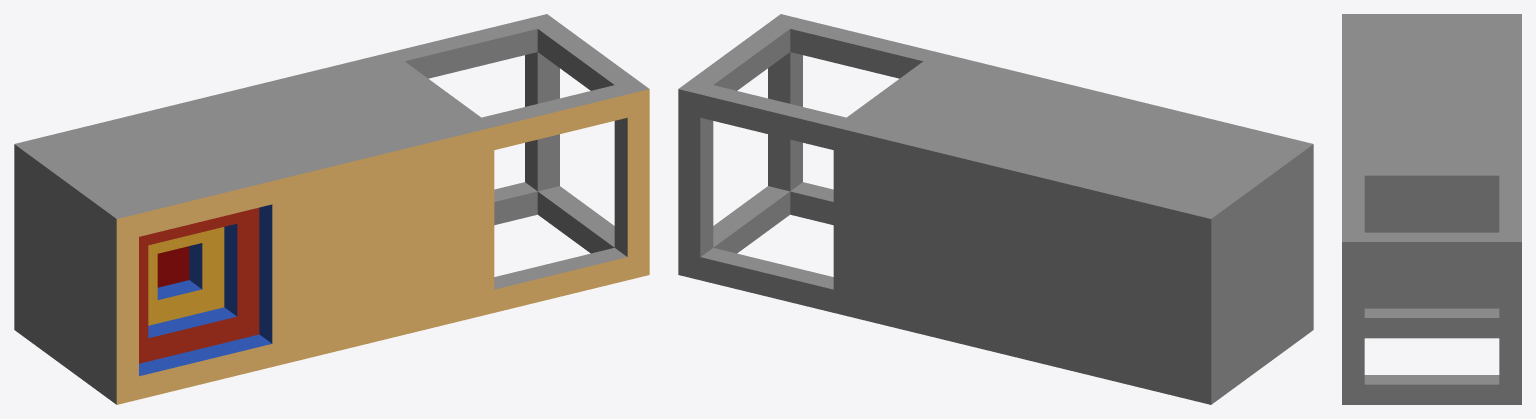
File: base_blocks.FBX
The picture shows the model from 3 angles, left to right: view 1: azimuth 30°, elevation 25°; view 2: azimuth 150°, elevation 25°; view 3: azimuth 270°, elevation 25°; orthographic projection. The views are drawn at different scales.
Parts seen in each view (by area): view 1: Box_S_0001, Box_0001, Box_H_0001; view 2: Box_S_0001, Box_0001, Box_H_0001; view 3: Box_H_0001, Box_0001, Box_S_0001.
Boxes of the visible parts, bbox=[...] form: Box_S_0001: bbox=[14, 100, 294, 404]; Box_0001: bbox=[192, 57, 471, 361]; Box_H_0001: bbox=[370, 14, 649, 318]; Box_S_0001: bbox=[1033, 100, 1313, 404]; Box_0001: bbox=[856, 57, 1135, 361]; Box_H_0001: bbox=[678, 14, 957, 318]; Box_H_0001: bbox=[1342, 166, 1521, 404]; Box_0001: bbox=[1342, 90, 1521, 308]; Box_S_0001: bbox=[1342, 14, 1521, 89].
Bounding box in the file's own units: 3000 × 1000 × 1000.
